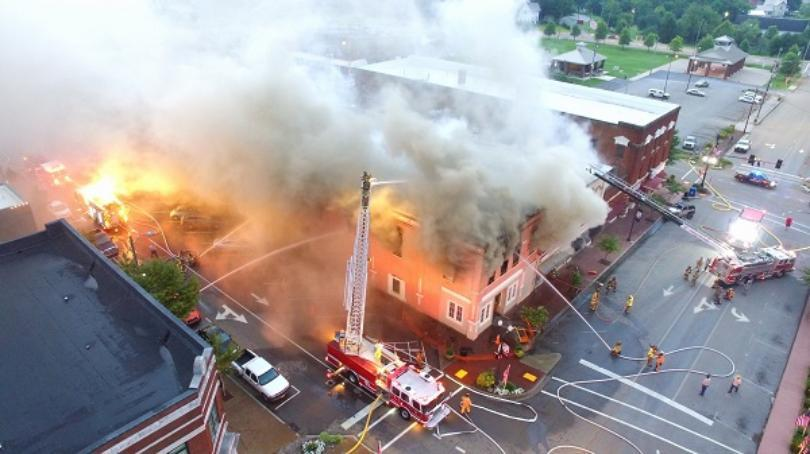Fire: (95, 149, 174, 218)
